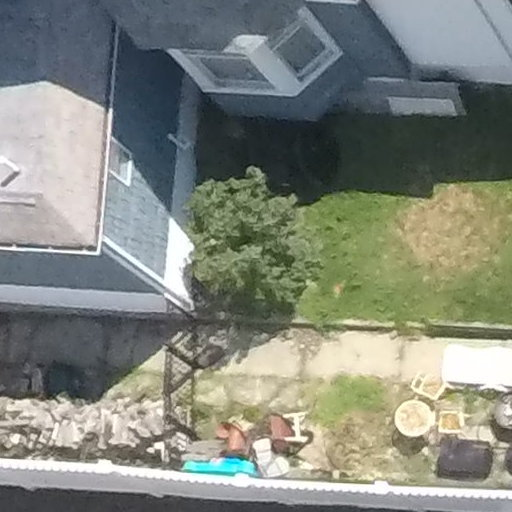trash: (183, 408, 315, 475)
woodpile: (1, 393, 173, 459)
